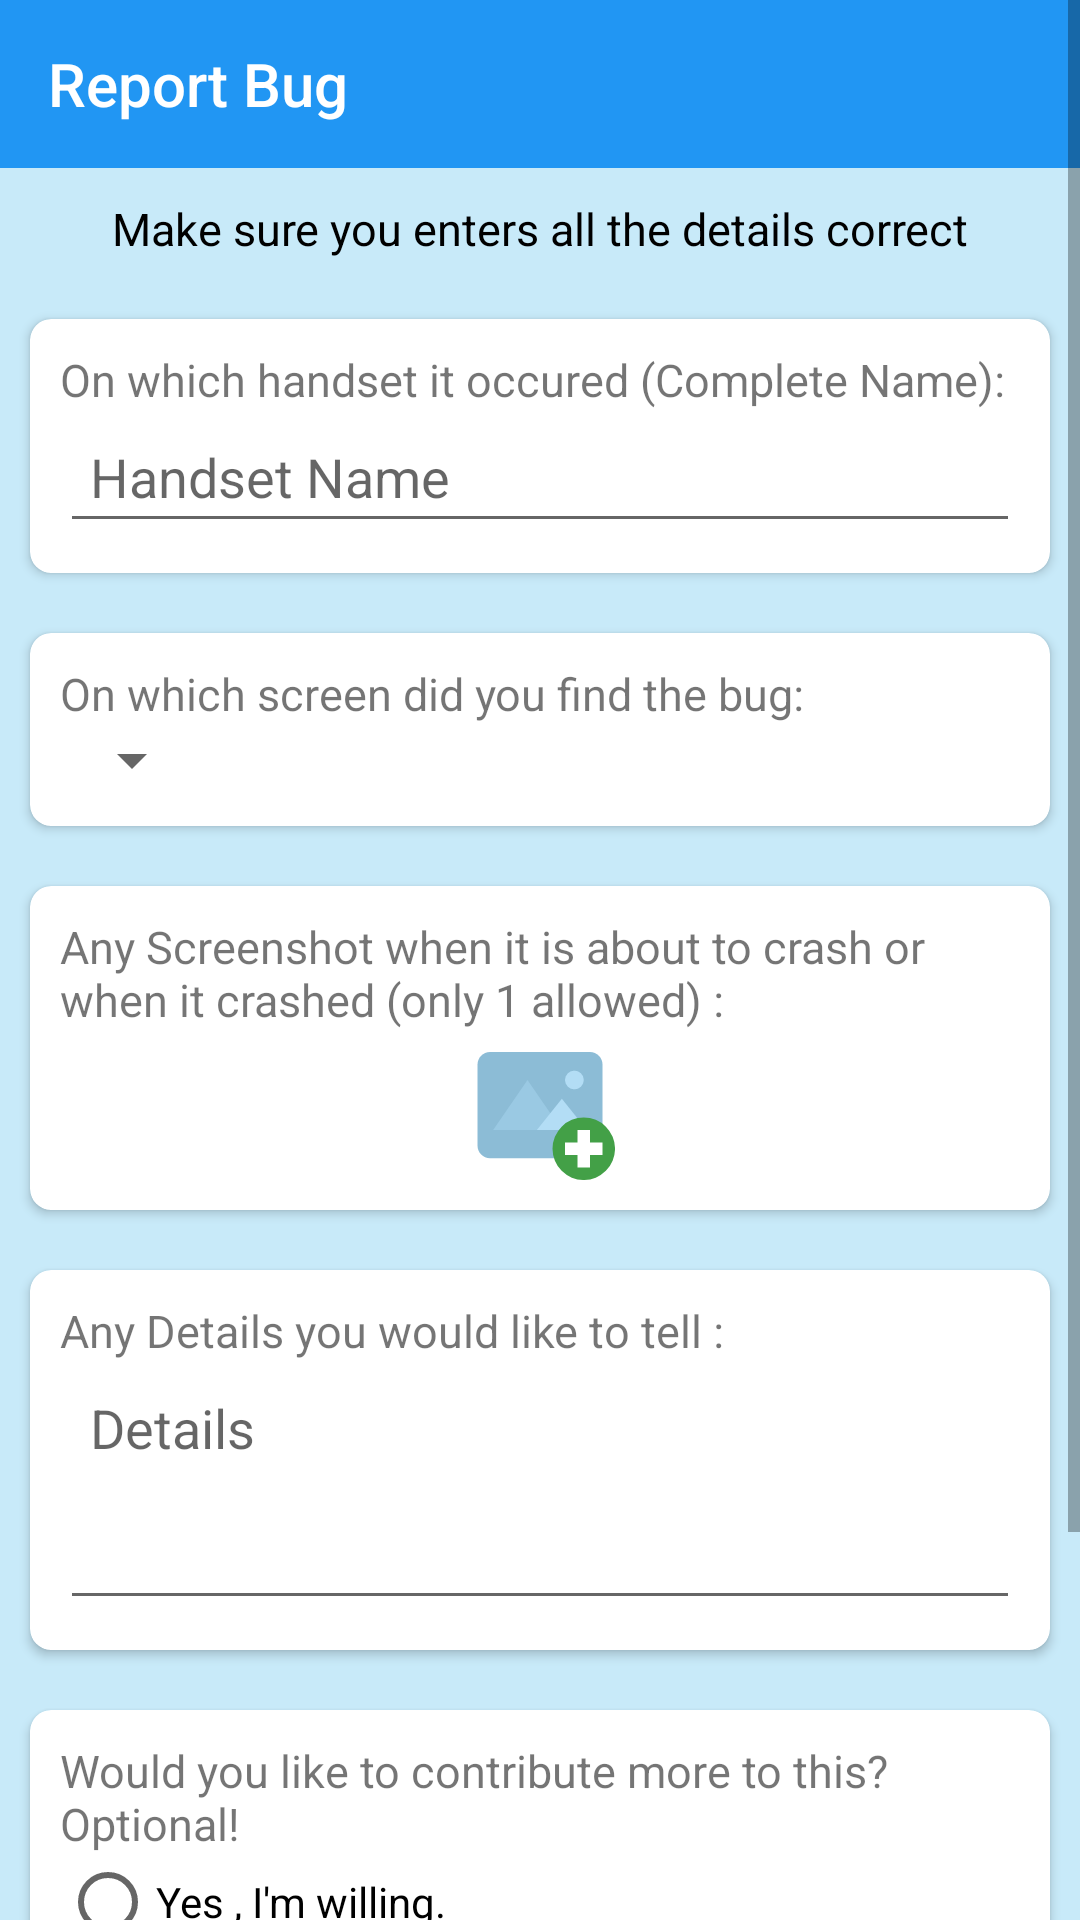

Locate icon controls on the screen. Image size 1080x1920, boxes as (x1, y1, x2, y2).
add: (477, 1052, 615, 1180)
